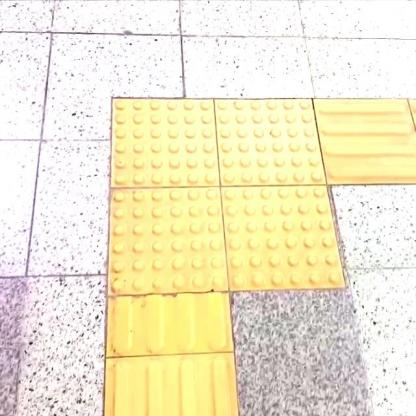podotacti: (88, 57, 376, 330)
